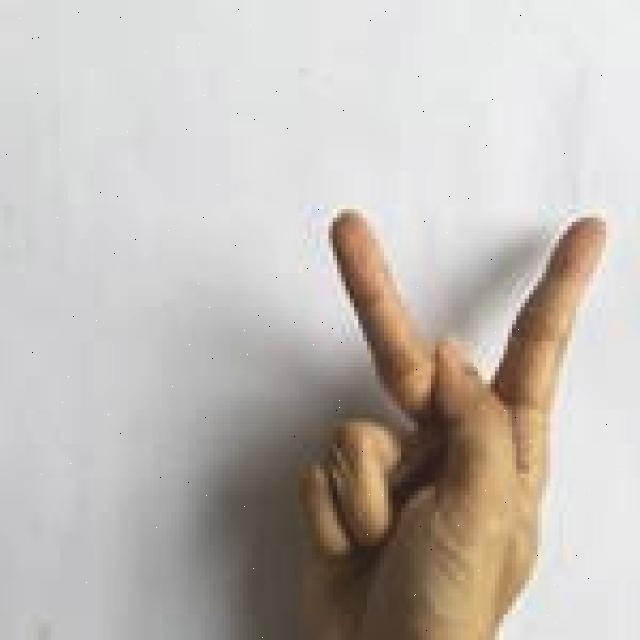K: (288, 205, 612, 640)
